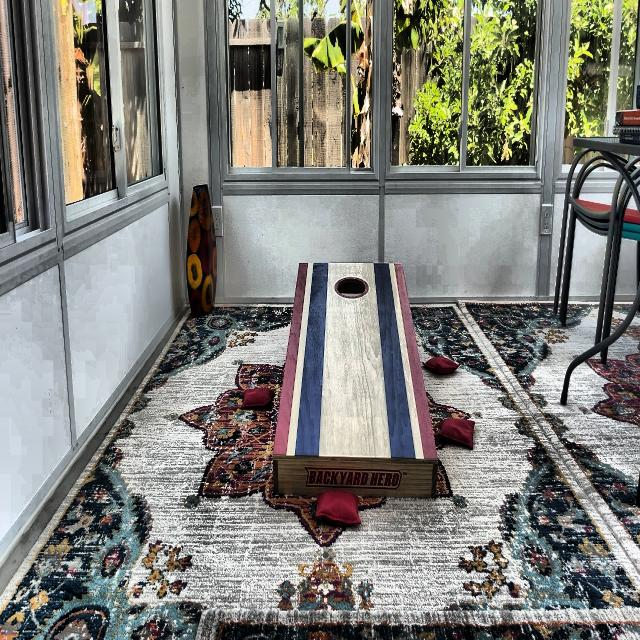board: (292, 263, 410, 458)
hole: (333, 275, 369, 299)
red-bean-bag: (315, 490, 360, 526), (436, 416, 476, 449), (423, 356, 461, 374), (241, 387, 274, 407)
